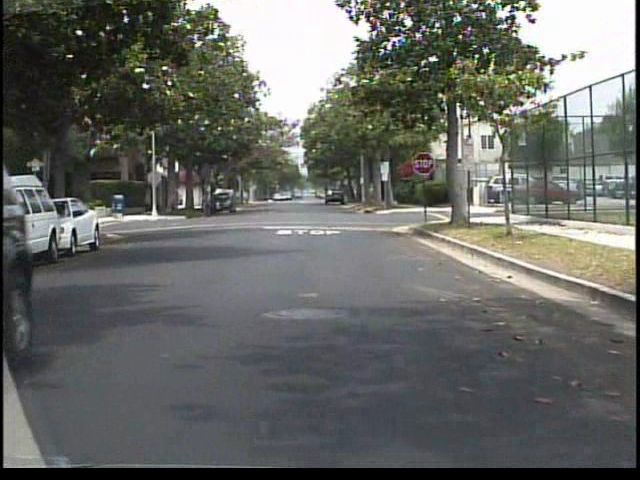person: (201, 177, 224, 219)
